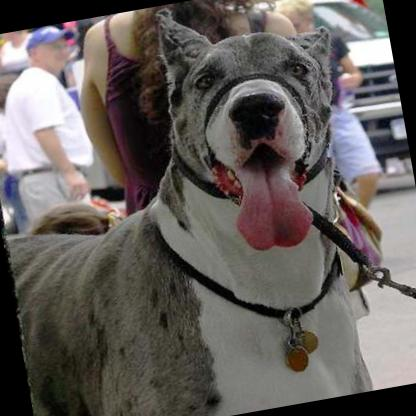Great_Dane: (0, 0, 390, 416)
